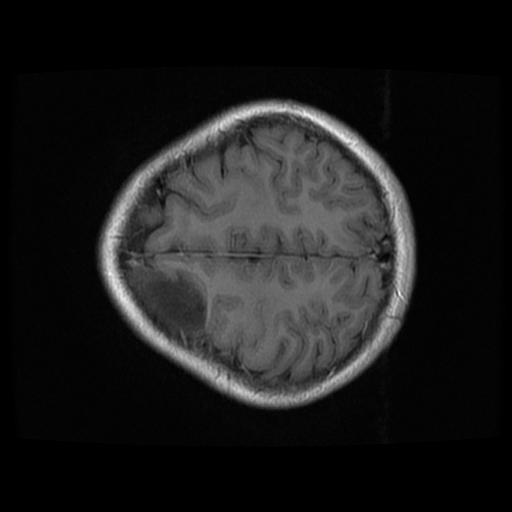glioma: (134, 269, 205, 339)
